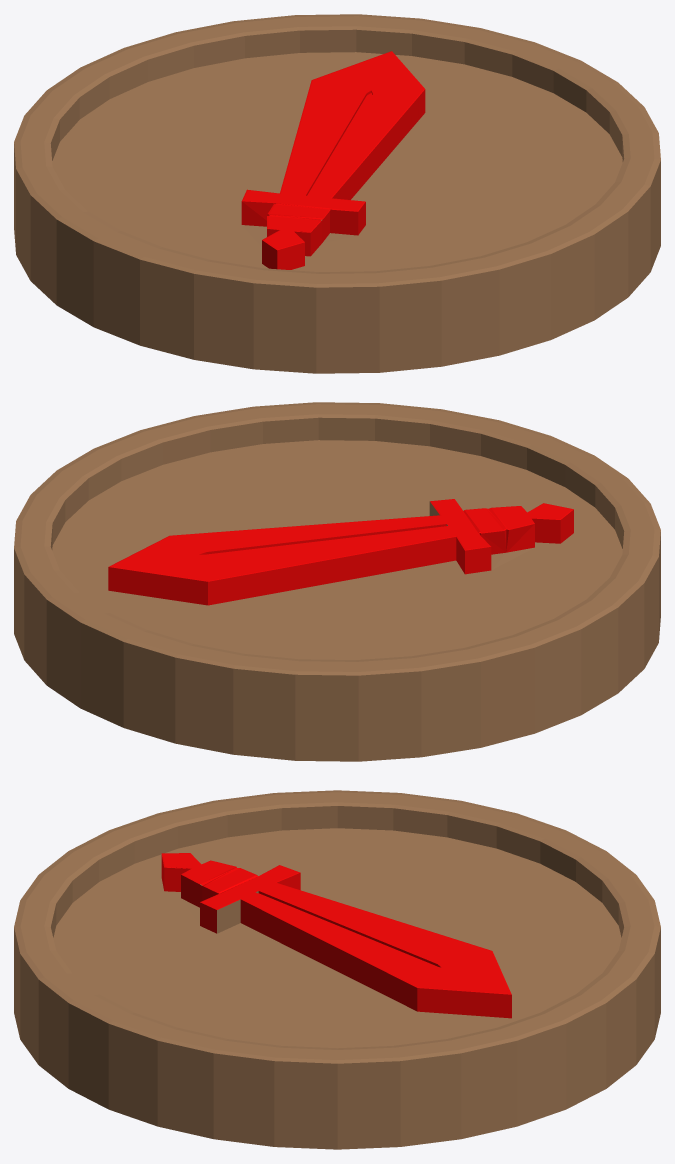
The model's file is AttackUpgrade.fbx.
3 renders of one model, top to bottom at view 1: azimuth 30°, elevation 25°; view 2: azimuth 150°, elevation 25°; view 3: azimuth 270°, elevation 25°, orthographic.
Visible parts, largest first — view 1: Coin; view 2: Coin; view 3: Coin.
Part boxes in pixels (box(x1,y1,x2,y2)): Coin: box(14, 14, 660, 373); Coin: box(14, 402, 660, 761); Coin: box(14, 790, 660, 1149).
Size of the model in its own units: 200 by 30.81 by 200.
